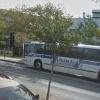Bus: (22, 35, 100, 81)
